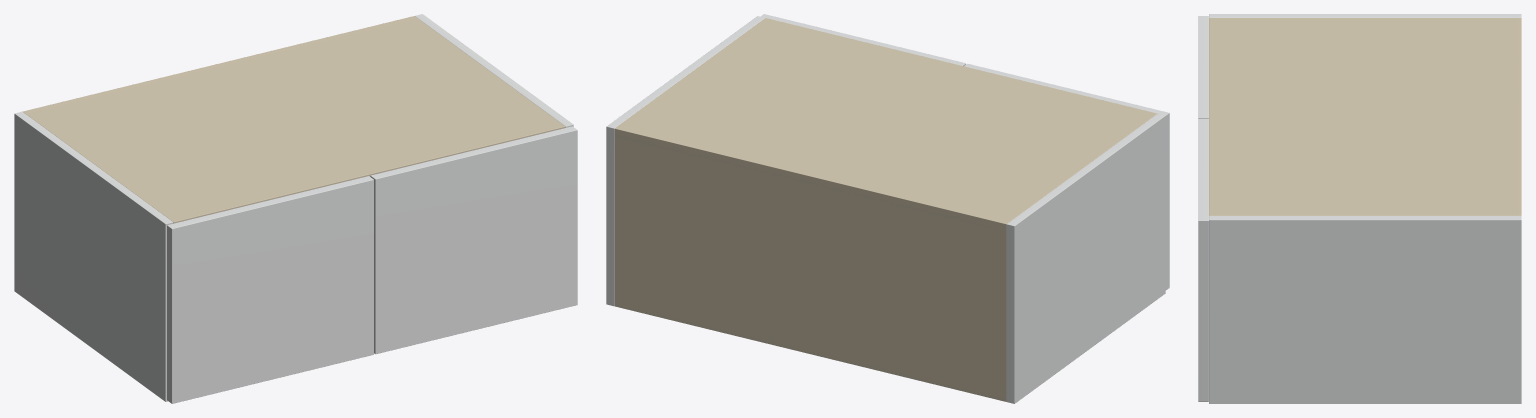
The model's file is oppein-ply-pgw-w361524.glb.
3 renders of one model, left to right at view 1: azimuth 30°, elevation 25°; view 2: azimuth 150°, elevation 25°; view 3: azimuth 270°, elevation 25°, orthographic. The views are drawn at different scales.
Visible parts, largest first — view 1: Cabinet top, Door, Door.001, Cabinet side, Cabinet side.001, Cabinet back; view 2: Cabinet back, Cabinet top, Cabinet side, Cabinet side.001, Door, Cabinet bottom, Door.001; view 3: Cabinet top, Cabinet side.001, Door.001, Cabinet back, Cabinet side, Door.
Boxes of the visible parts, x1=… form: Cabinet top: x1=23, y1=16, x2=565, y2=223; Door: x1=167, y1=176, x2=373, y2=403; Door.001: x1=370, y1=126, x2=577, y2=354; Cabinet side: x1=14, y1=111, x2=173, y2=401; Cabinet side.001: x1=415, y1=14, x2=573, y2=127; Cabinet back: x1=23, y1=16, x2=416, y2=113; Cabinet back: x1=614, y1=126, x2=1006, y2=401; Cabinet top: x1=614, y1=18, x2=1157, y2=231; Cabinet side: x1=1006, y1=113, x2=1165, y2=403; Cabinet side.001: x1=606, y1=16, x2=764, y2=306; Door: x1=964, y1=63, x2=1169, y2=290; Cabinet bottom: x1=616, y1=306, x2=1005, y2=401; Door.001: x1=761, y1=14, x2=965, y2=66; Cabinet top: x1=1209, y1=18, x2=1521, y2=215; Cabinet side.001: x1=1209, y1=216, x2=1521, y2=403; Door.001: x1=1198, y1=119, x2=1208, y2=401; Cabinet back: x1=1515, y1=18, x2=1521, y2=215; Cabinet side: x1=1209, y1=14, x2=1521, y2=17; Door: x1=1198, y1=16, x2=1208, y2=118.
Bounding box in the file's own units: 0.9144 × 0.381 × 0.6064.
